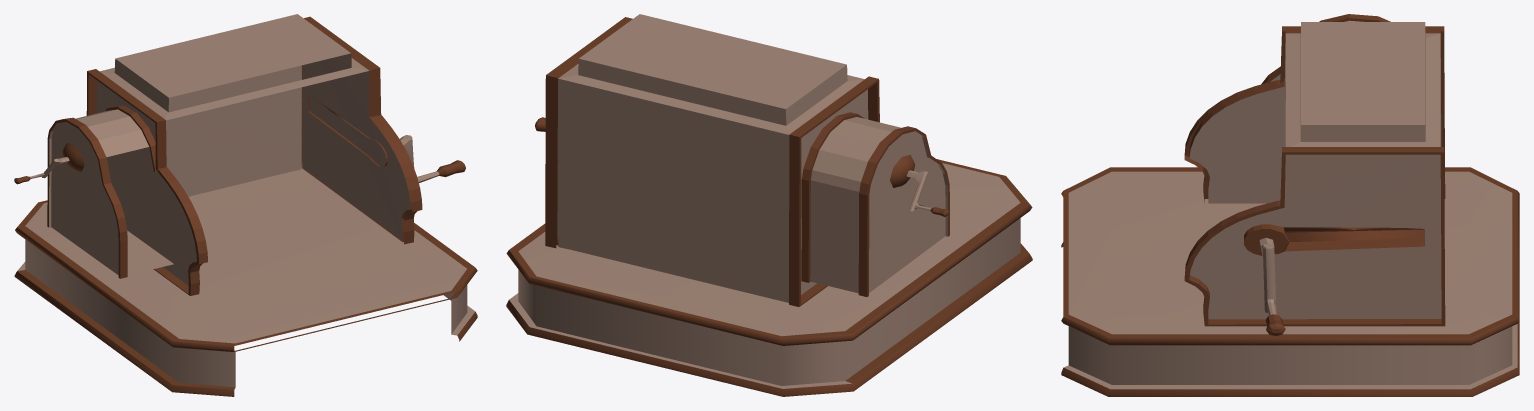
Rendered from Kasse.FBX.
The picture shows the model from 3 angles, left to right: view 1: azimuth 30°, elevation 25°; view 2: azimuth 150°, elevation 25°; view 3: azimuth 270°, elevation 25°; orthographic projection. The views are drawn at different scales.
Parts seen in each view (by area): view 1: Kasse; view 2: Kasse; view 3: Kasse.
Boxes of the visible parts, <box> form: Kasse: <box>14,14,477,396</box>; Kasse: <box>506,14,1032,396</box>; Kasse: <box>1061,14,1519,396</box>.
Bounding box in the file's own units: 71.64 × 36.16 × 60.69.
